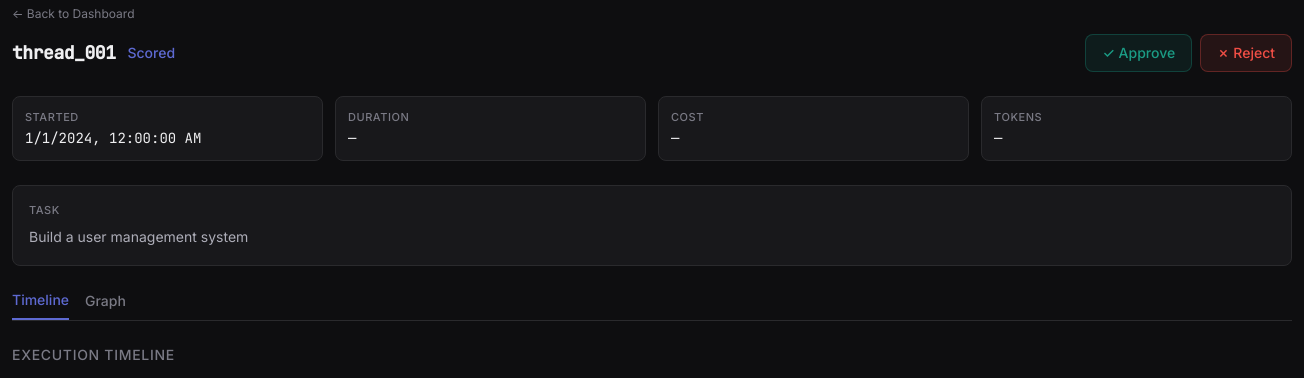
Test: ExecutionPage › State Transitions › should cancel confirmation on cancel button click
The width and height of the screenshot is (1304, 378).
Step 1. Click the button "✓ Approve" → (1139, 53), box [1086,34,1192,72]
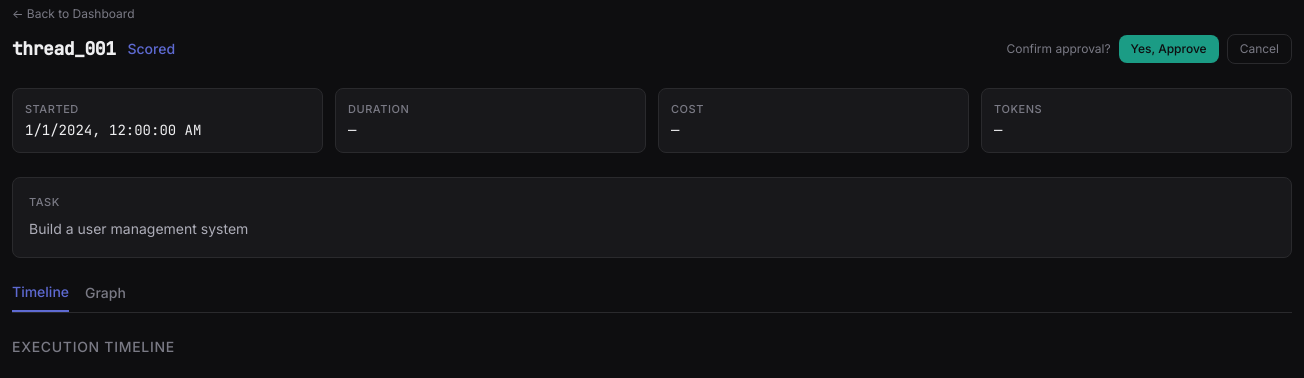
Step 2. Click the button "Cancel" → (1259, 49), box [1227,34,1292,64]
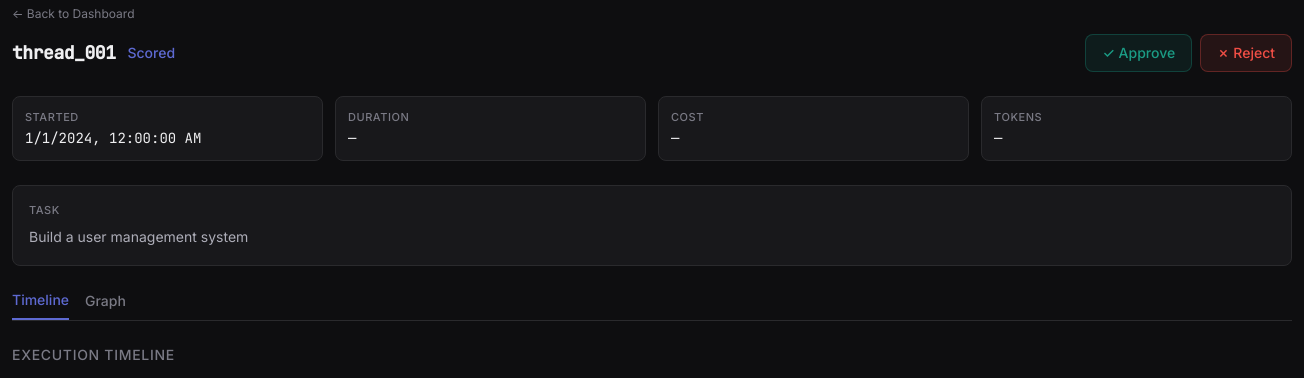
Check: the button "✓ Approve" is shown, box [1086,34,1192,72]
Check: the text "Confirm approval?" is gone
